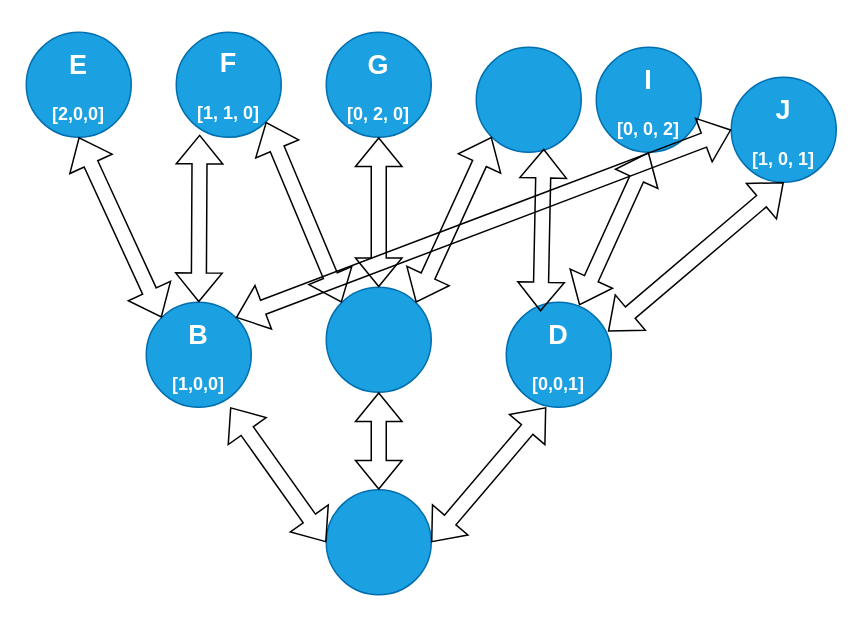
The diagram is 863 pixels wide and 626 high, and some of its shapes have lost their labels. Each missing label, with the centre of its shape:
"A [0,0,0]" belongs at (378,541).
"C [0,1,0]" belongs at (378,339).
"H [0, 1, 1]" belongs at (528,99).
